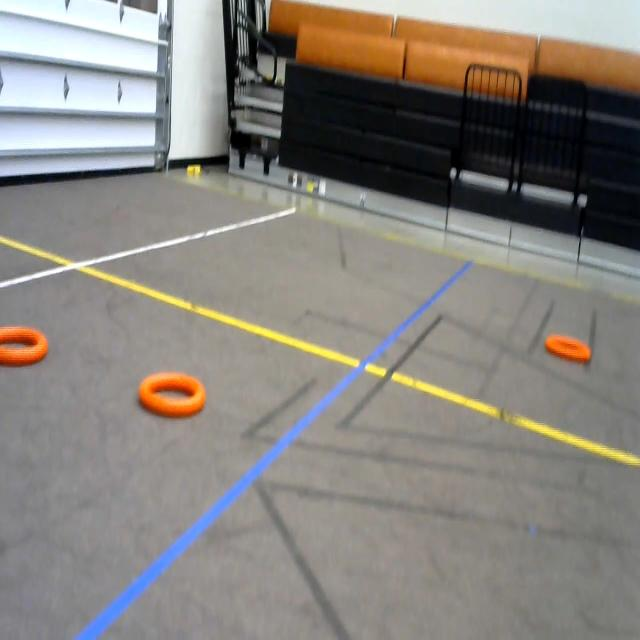note: (137, 352, 209, 426), (540, 321, 608, 378), (0, 319, 56, 386)
